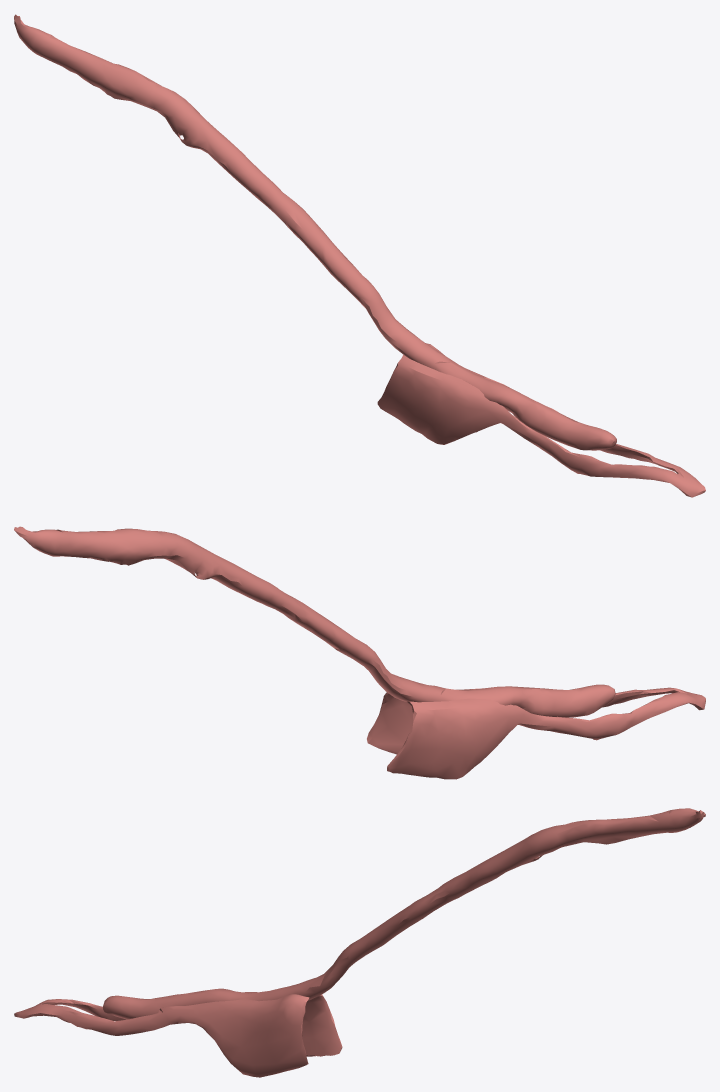
The model's file is fma49396_mm1768m.glb.
3 renders of one model, top to bottom at view 1: azimuth 90°, elevation 25°; view 2: azimuth 150°, elevation 25°; view 3: azimuth 270°, elevation 25°, orthographic. The views are drawn at different scales.
Visible parts, largest first — view 1: FMA49396_MM1768M; view 2: FMA49396_MM1768M; view 3: FMA49396_MM1768M.
Part boxes in pixels (x1=…): FMA49396_MM1768M: x1=14, y1=14, x2=705, y2=497; FMA49396_MM1768M: x1=14, y1=526, x2=705, y2=779; FMA49396_MM1768M: x1=14, y1=808, x2=705, y2=1077.
Size of the model in its own units: 0.0595 by 0.0677 by 0.1237.
